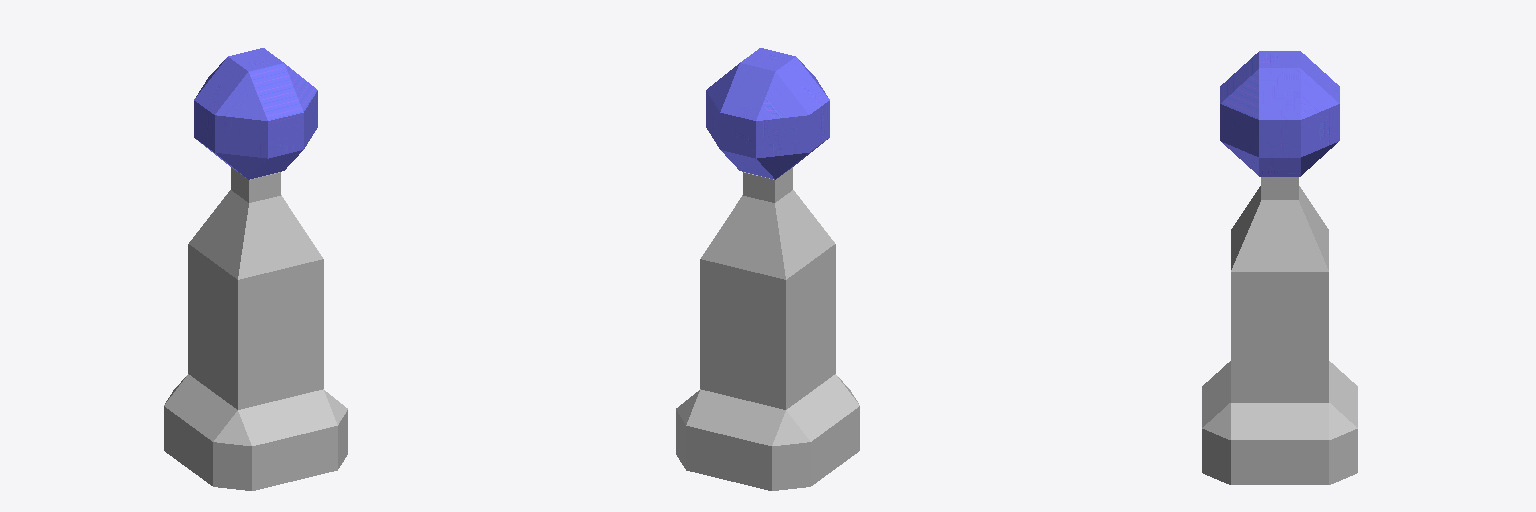
3 renders of one model, left to right at view 1: azimuth 30°, elevation 25°; view 2: azimuth 150°, elevation 25°; view 3: azimuth 270°, elevation 25°, orthographic.
Visible parts, largest first — view 1: 立方体, 立方体.001; view 2: 立方体, 立方体.001; view 3: 立方体, 立方体.001.
Boxes of the visible parts, x1,y1,x2,y2 form: 立方体: [164, 167, 347, 490]; 立方体.001: [194, 48, 317, 179]; 立方体: [676, 167, 859, 490]; 立方体.001: [706, 48, 829, 179]; 立方体: [1202, 177, 1357, 484]; 立方体.001: [1220, 51, 1339, 176].
Bounding box in the file's own units: 2 × 5.55 × 2.
2 materials, 1 textured.